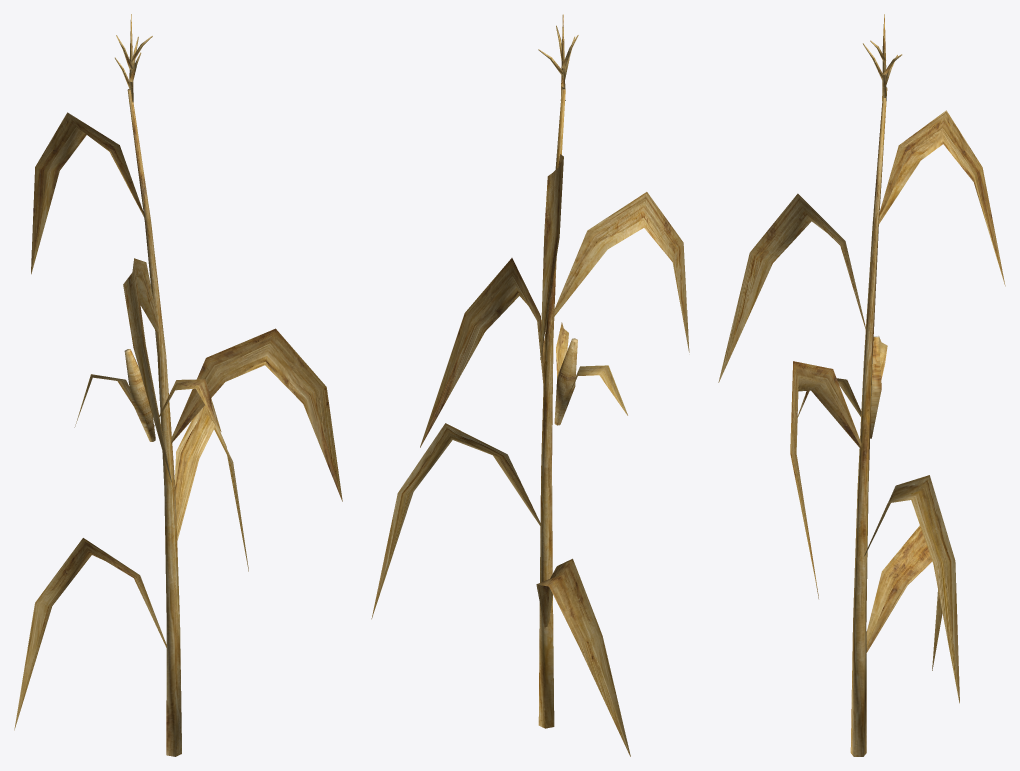
The model's file is Corn_C_Mid.glb.
3 views of the same model, side by side, from view 1: azimuth 30°, elevation 25°; view 2: azimuth 150°, elevation 25°; view 3: azimuth 270°, elevation 25° (orthographic).
Parts seen in each view (by area): view 1: Corn_C_Mid; view 2: Corn_C_Mid; view 3: Corn_C_Mid.
Part boxes in pixels (box(x1,y1,x2,y2)): Corn_C_Mid: box(14, 14, 342, 756); Corn_C_Mid: box(371, 14, 689, 756); Corn_C_Mid: box(718, 14, 1005, 756).
Bounding box in the file's own units: 3.08 × 8 × 2.87.
1 material, 1 textured.
